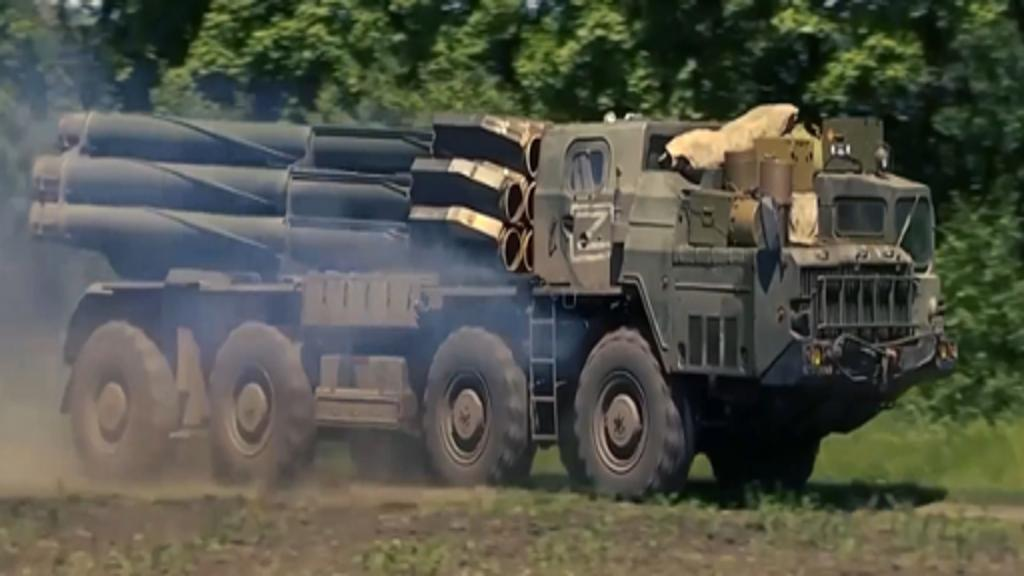MLRS: (28, 99, 950, 506)
